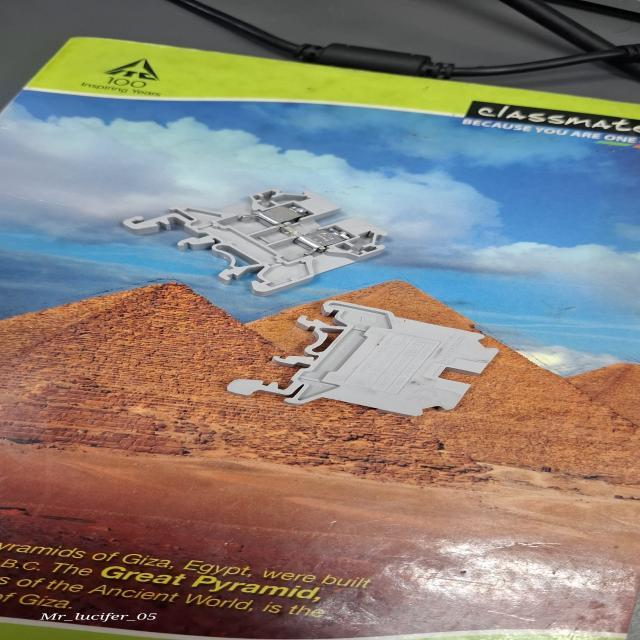Inverted: (226, 300, 514, 418)
Pass: (106, 182, 396, 292)
